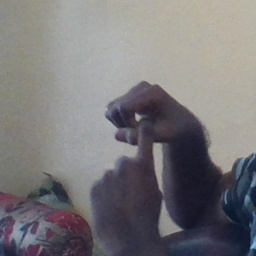Q: (85, 77, 183, 222)
